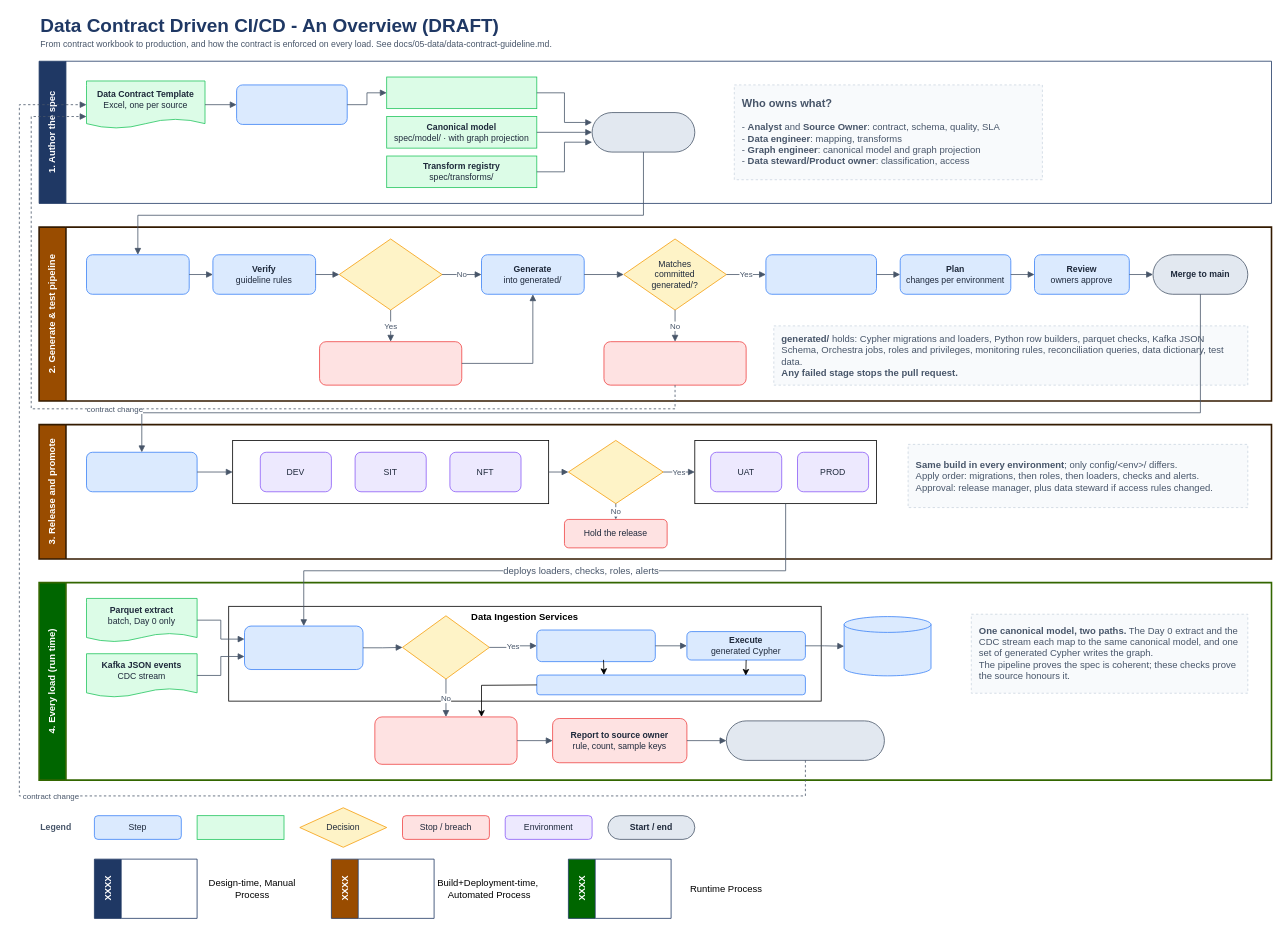
The diagram is 1286 pixels wide and 932 high, and some of its shapes have lost their labels. The shapes that lost their labels are listed below. From the top down, each one's centre as x and y in pixels, then its label:
(x=291, y=104): Import
(x=461, y=92): Contracts + mapping spec/contracts/<system>/<table>/
(x=643, y=132): Pull request
(x=137, y=274): Validate schemas, references
(x=390, y=274): Diff Breaking change?
(x=821, y=274): Unit Test throwaway Neo4j, synthetic data
(x=390, y=363): Major version bump + source owner approval + notice period
(x=674, y=363): Fix the spec or the generator. Never edit generated/ by hand.
(x=141, y=471): Cut release one build, one version
(x=615, y=472): Approved?
(x=303, y=647): Contract checks schema, quality, freshness
(x=445, y=647): Pass?
(x=595, y=645): Transform to canonical records
(x=887, y=646): Neo4j graph
(x=670, y=684): Auditing Logs
(x=445, y=740): Action on exceptions reject batch · quarantine row dead-letter · alert only
(x=805, y=740): Fix the source, or change the contract
(x=240, y=827): Spec file
